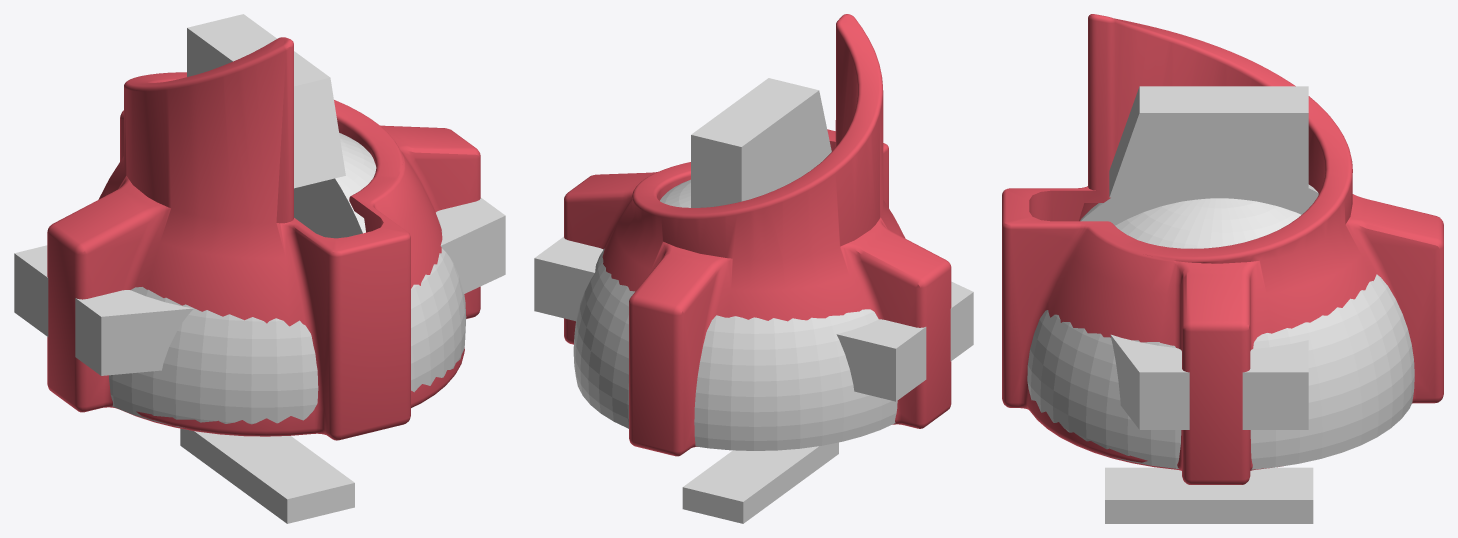
Rendered from cup_colliders 1.fbx.
The picture shows the model from 3 angles, left to right: view 1: azimuth 30°, elevation 25°; view 2: azimuth 150°, elevation 25°; view 3: azimuth 270°, elevation 25°; orthographic projection. The views are drawn at different scales.
Visible parts, largest first — view 1: movable_cup, Sphere, Sphere.001, Cube, Cube.007, Cube.005, Cube.006; view 2: movable_cup, Sphere, Cube.005, Sphere.001, Cube, Cube.007, Cube.006; view 3: movable_cup, Sphere.001, Cube.005, Cube.006, Cube.007, Sphere.
Boxes of the visible parts, x1,y1,x2,y2 form: movable_cup: (47, 37, 480, 440); Sphere: (109, 287, 318, 430); Sphere.001: (294, 133, 466, 392); Cube: (14, 245, 193, 375); Cube.007: (180, 428, 354, 523); Cube.005: (187, 14, 345, 188); Cube.006: (436, 197, 505, 293); movable_cup: (564, 14, 951, 456); Sphere: (694, 309, 897, 450); Cube.005: (691, 78, 831, 207); Sphere.001: (573, 179, 690, 428); Cube: (836, 281, 973, 401); Cube.007: (682, 442, 838, 523); Cube.006: (534, 236, 603, 321); movable_cup: (1002, 14, 1443, 484); Sphere.001: (1027, 198, 1414, 469); Cube.005: (1109, 86, 1308, 197); Cube.006: (1110, 334, 1308, 429); Cube.007: (1105, 467, 1313, 523); Sphere: (1080, 184, 1318, 225).
Size of the model in its own units: 0.1 by 0.1152 by 0.097.
